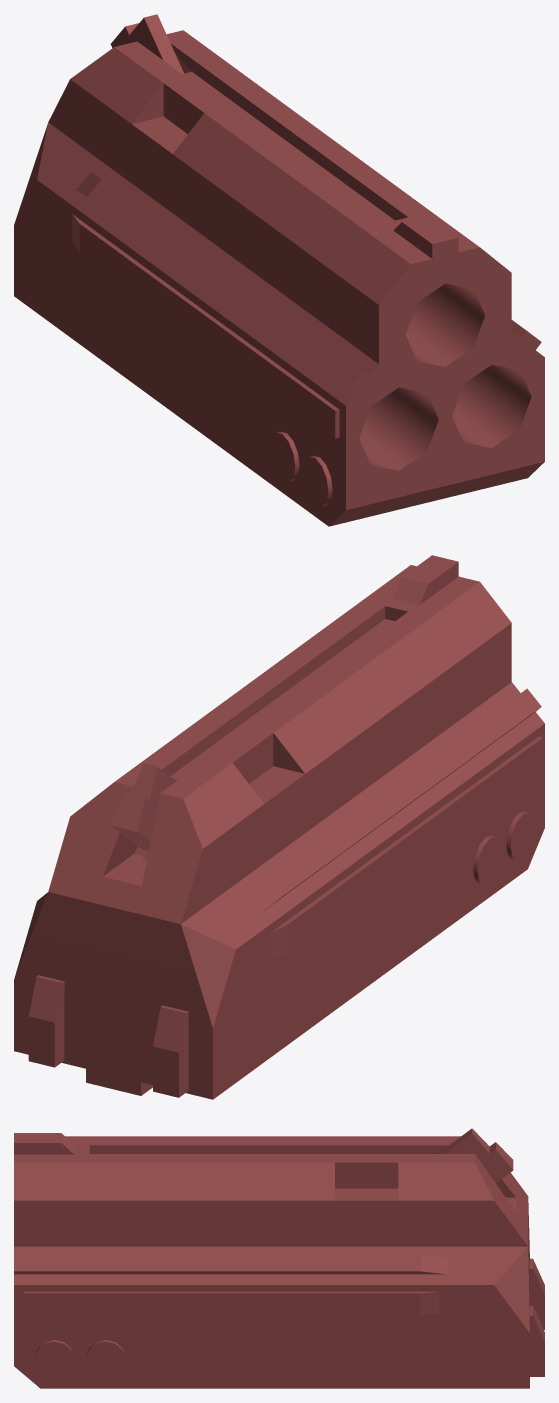
The model's file is WM0_Cannon_x3_LVL2.FBX.
3 renders of one model, top to bottom at view 1: azimuth 30°, elevation 25°; view 2: azimuth 150°, elevation 25°; view 3: azimuth 270°, elevation 25°, orthographic. The views are drawn at different scales.
Visible parts, largest first — view 1: WM0_Cannon_x3_LVL2; view 2: WM0_Cannon_x3_LVL2; view 3: WM0_Cannon_x3_LVL2.
Part boxes in pixels (x1,y1,x2,y2): WM0_Cannon_x3_LVL2: (14, 14, 544, 526); WM0_Cannon_x3_LVL2: (14, 555, 544, 1099); WM0_Cannon_x3_LVL2: (14, 1128, 544, 1388).
Bounding box in the file's own units: 11.75 × 16.05 × 33.45.
